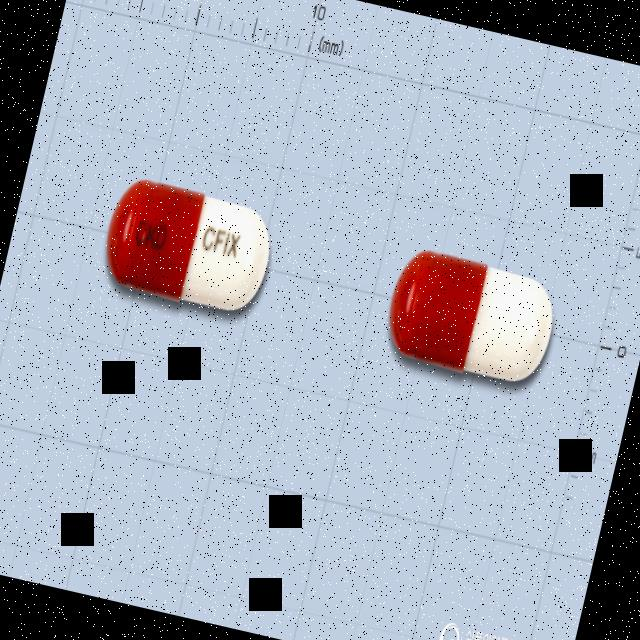Pocef Cap: (97, 172, 280, 319)
